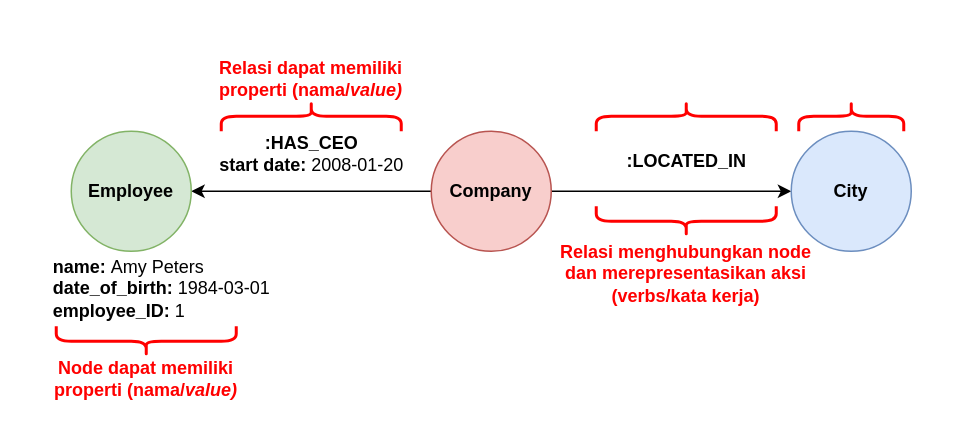
This 974x441 diagram has some shape labels left out. The shapes that lost their labels are listed below. From the top down, each one's centre as x and y in pixels, then its label:
At (x=685, y=115): "Relasi memiliki arah".
At (x=850, y=115): "node merepresentasikan objek (noun)".
